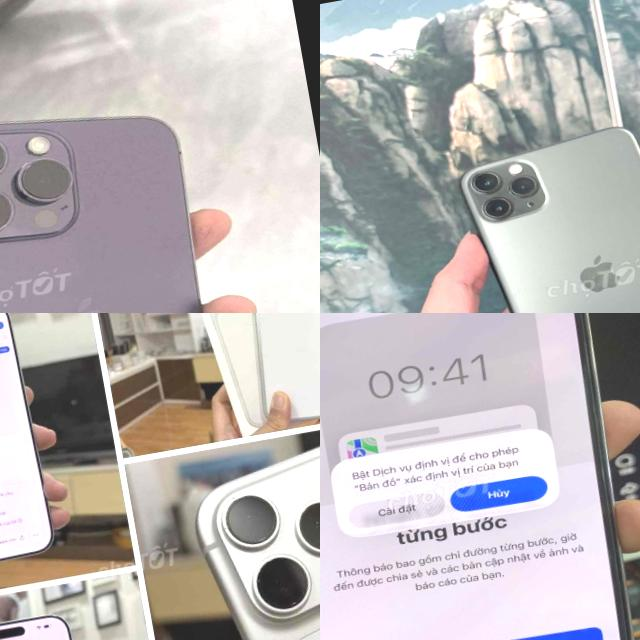gen_11: (450, 104, 640, 313)
gen_12_13: (320, 313, 640, 640)
gen_14: (0, 77, 250, 313)
gen_17: (175, 408, 320, 640), (0, 313, 77, 585)
